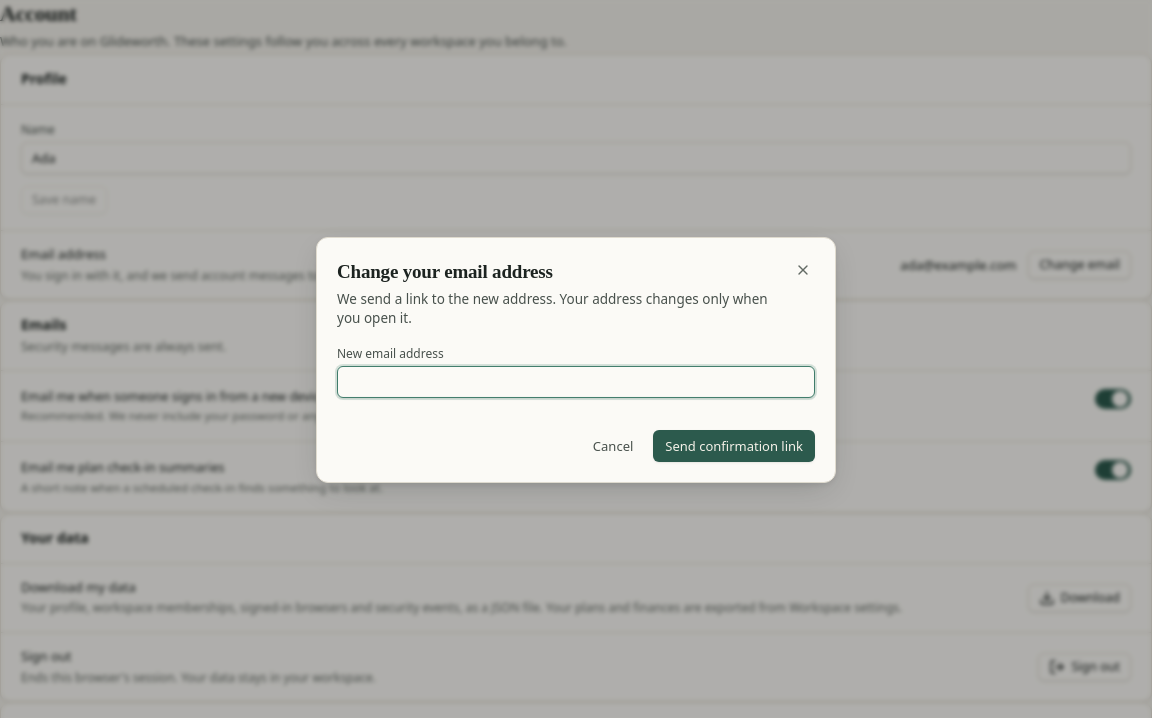
Test: focus returns to the page when a dialog closes (QA item 3) › change email: Cancel, Escape and Close after sending all go back to Change email
Earlier steps of the test are not shown.
Click the button "Cancel".
click(613, 446)  # box [581,430,645,462]
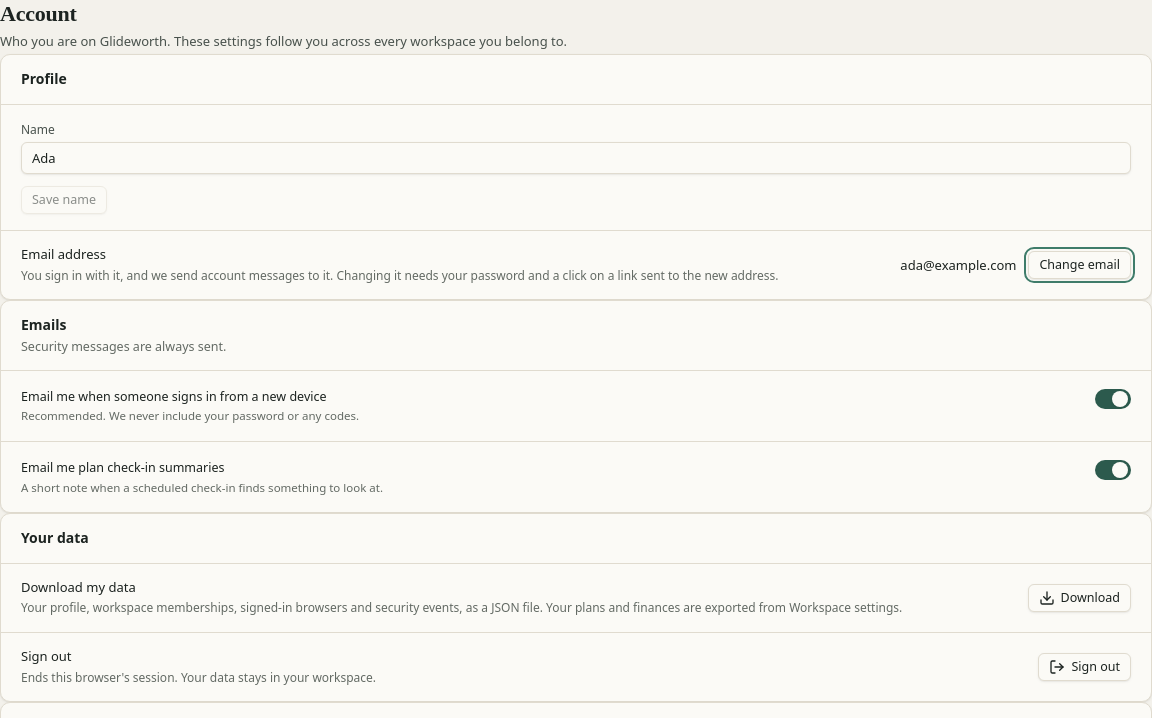
Result: the dialog is gone
Click the button "Change email".
click(1080, 265)  # box [1028,251,1131,279]
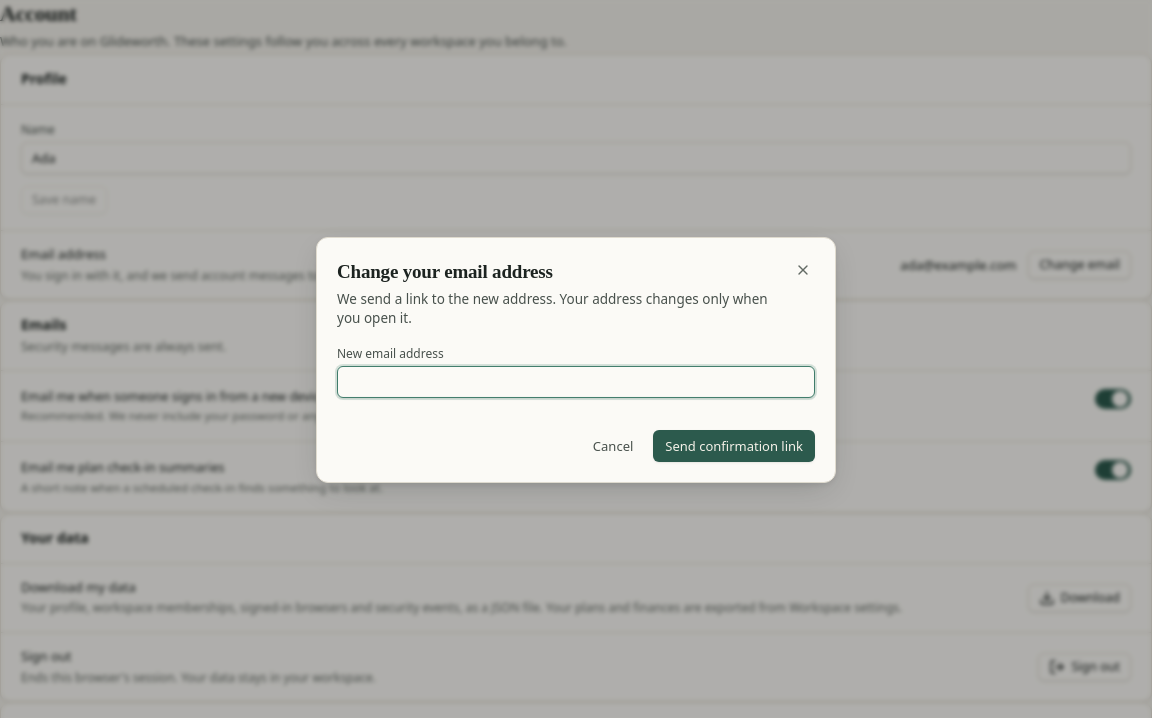
Press Escape in the field labelled "New email address", box [337,366,815,398]
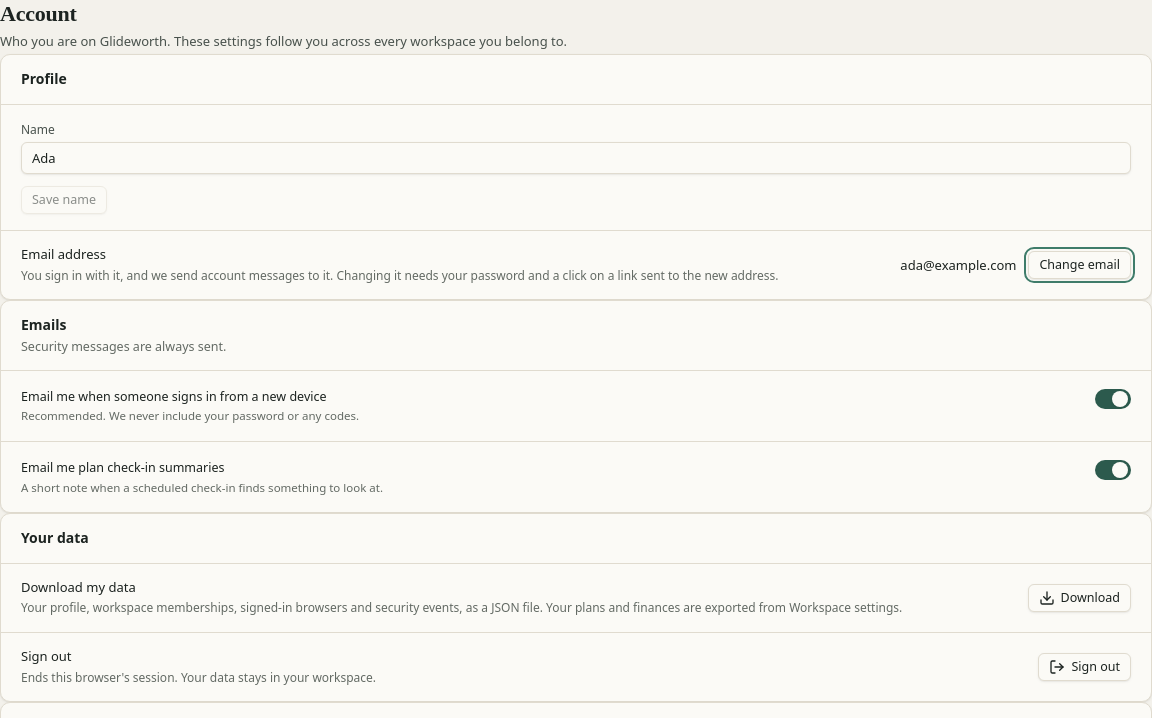
Result: the dialog is gone
Click the button "Change email".
click(1080, 265)  # box [1028,251,1131,279]
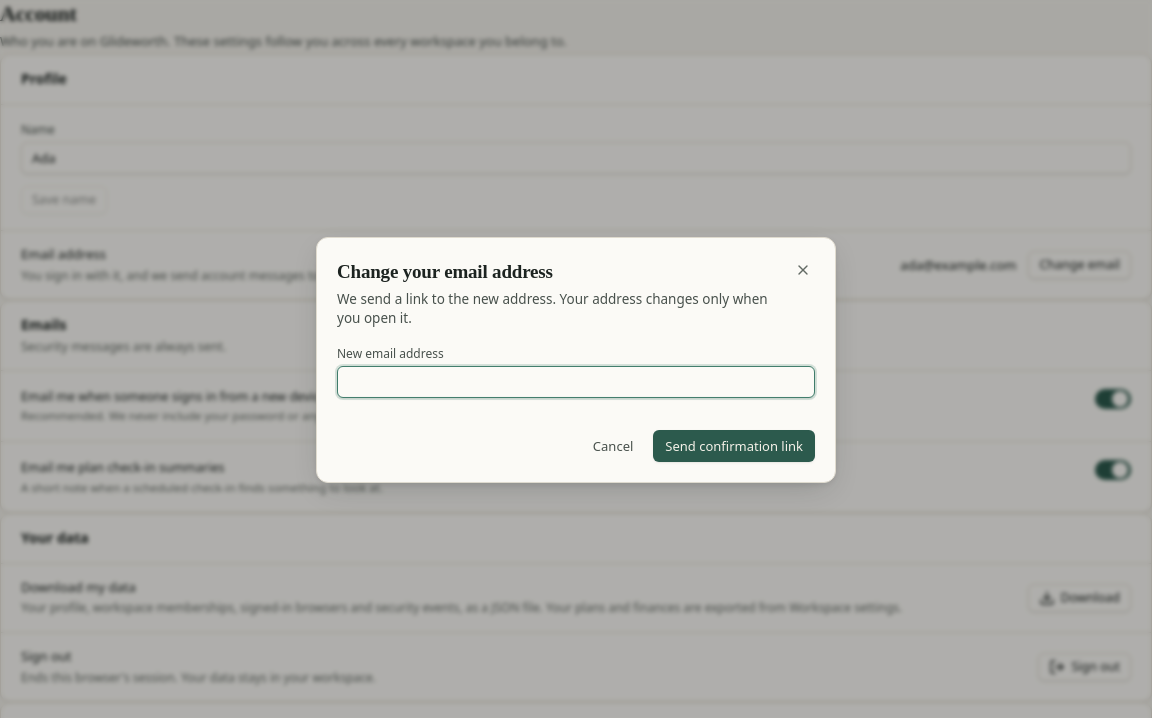
Type "ada@new.example" into the field labelled "New email address".
click(576, 382); type("ada@new.example")  # box [337,366,815,398]
Click the button "Send confirmation link".
click(734, 446)  # box [653,430,815,462]
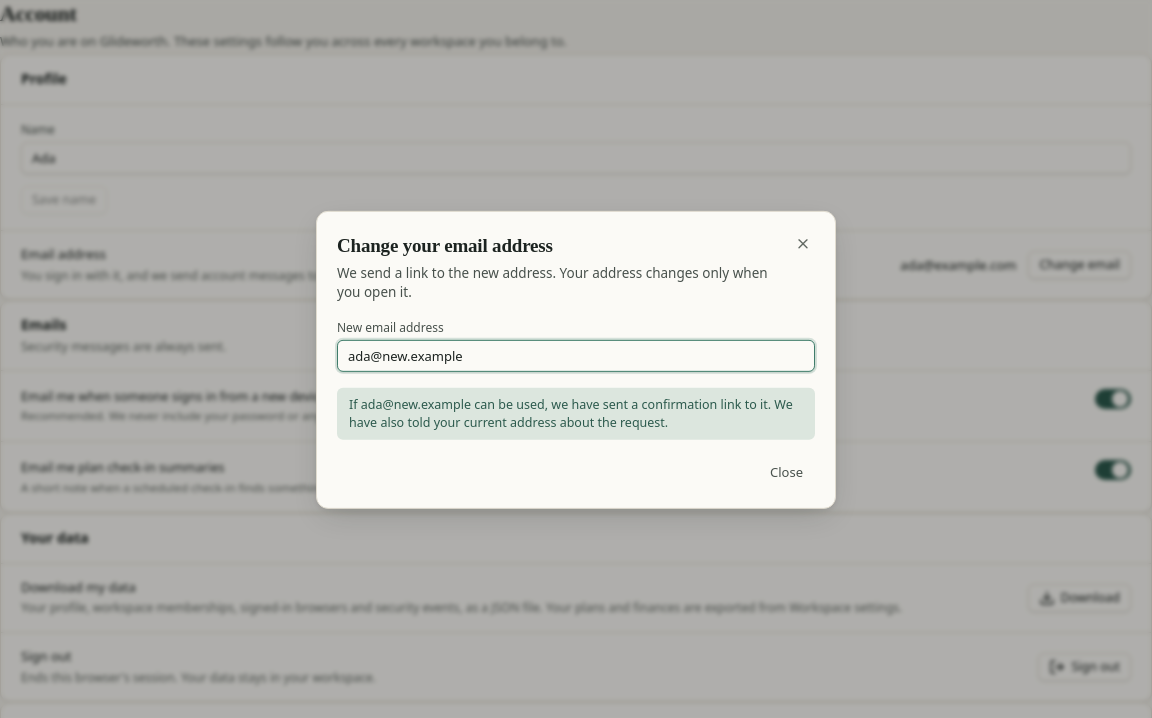
Result: the text "we have sent a confirmation link" is shown at [349,396,793,431]
Click the button "Close".
click(786, 472)  # box [758,456,815,488]
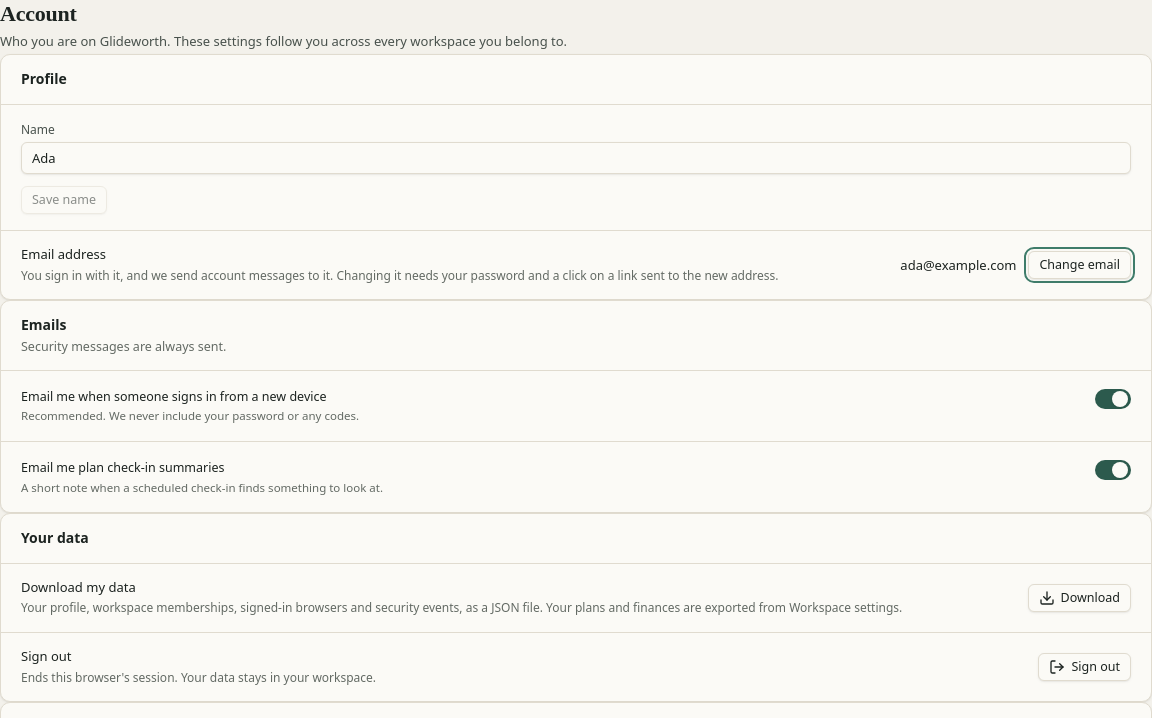
Result: the dialog is gone
